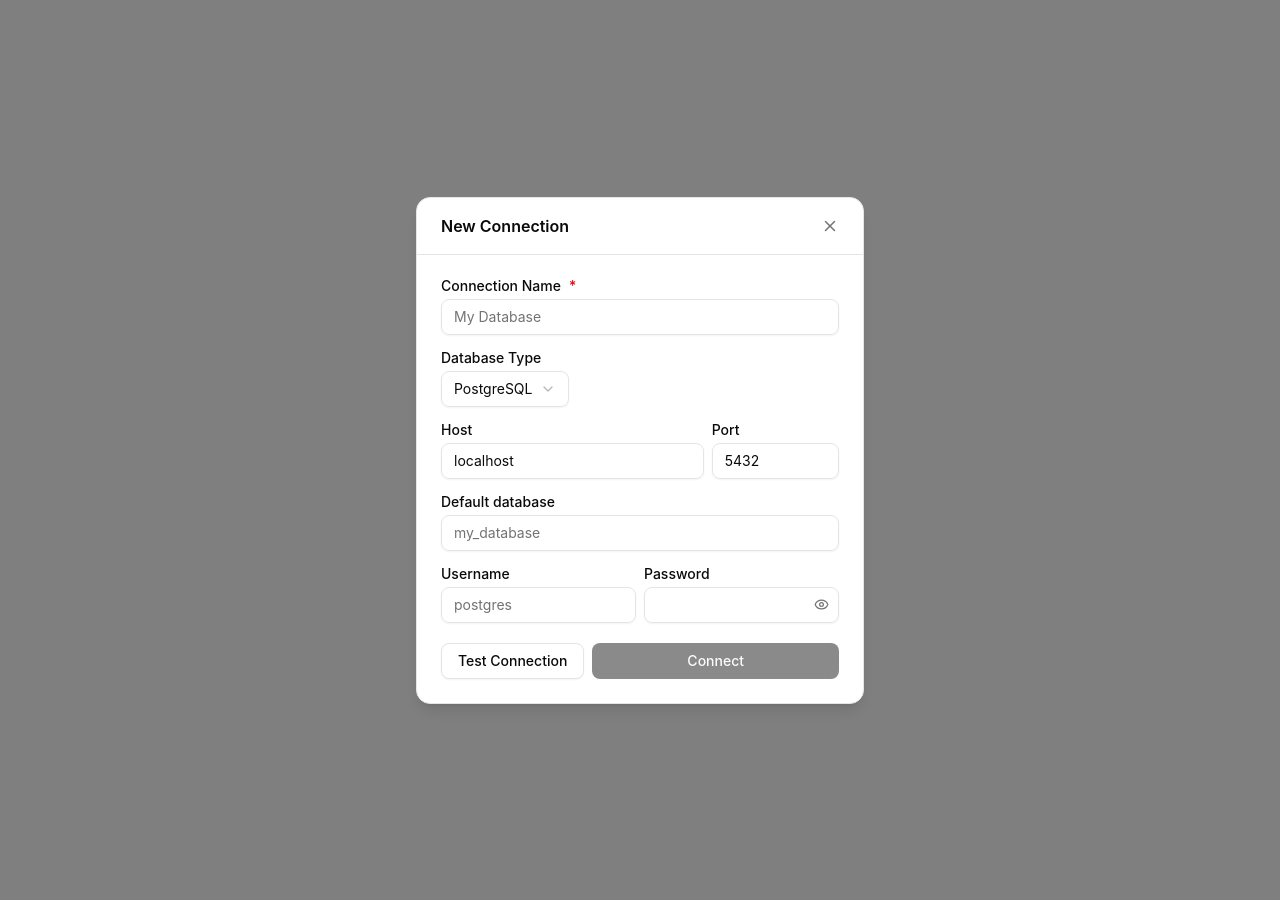
Scenario: DB type select › selecting MySQL sets port to 3306
The image size is (1280, 900).
# Open the Radix Select by clicking the trigger
Click the dropdown: (505,388) [441,370,570,406]
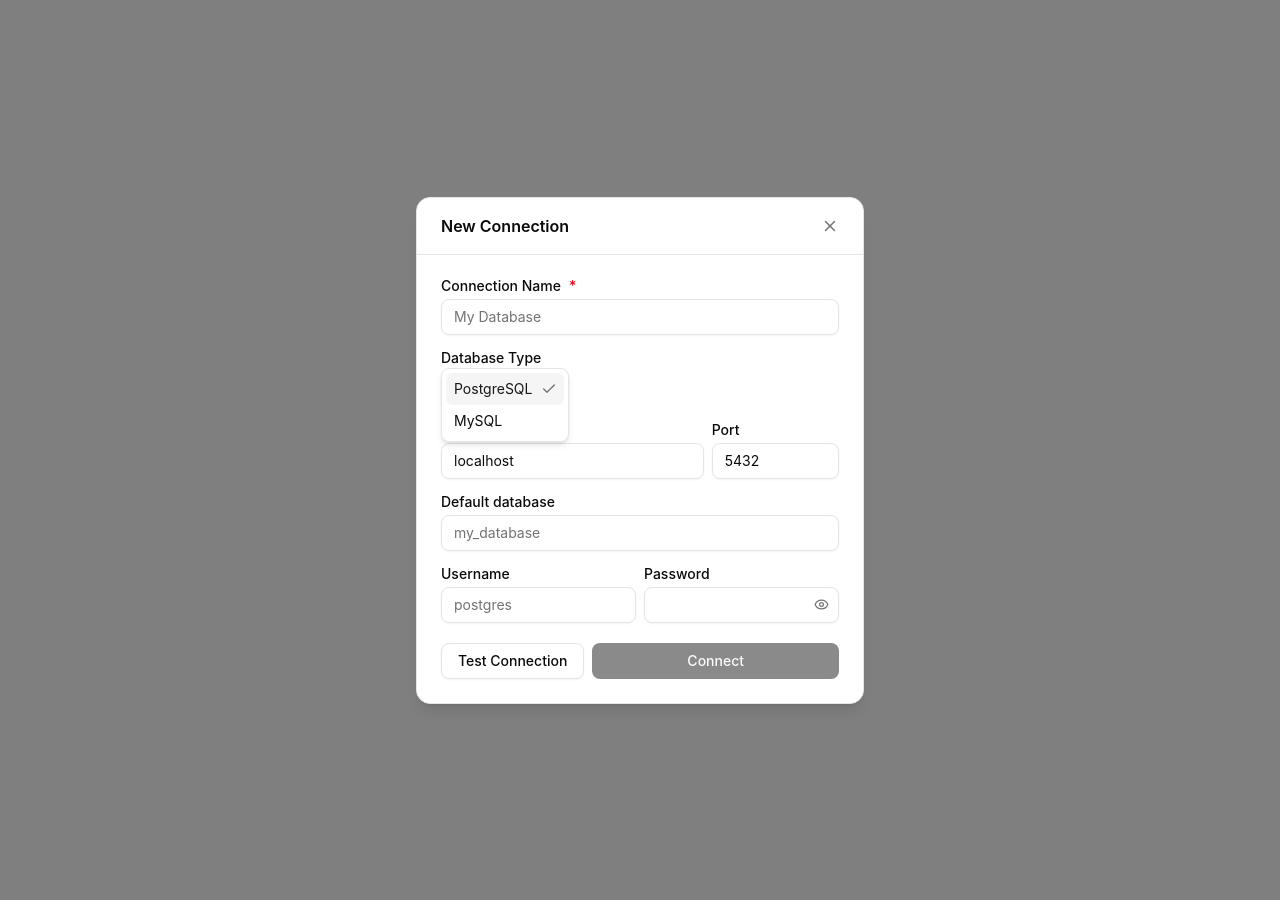
Click the option "MySQL": (478,420) [454,412,502,428]
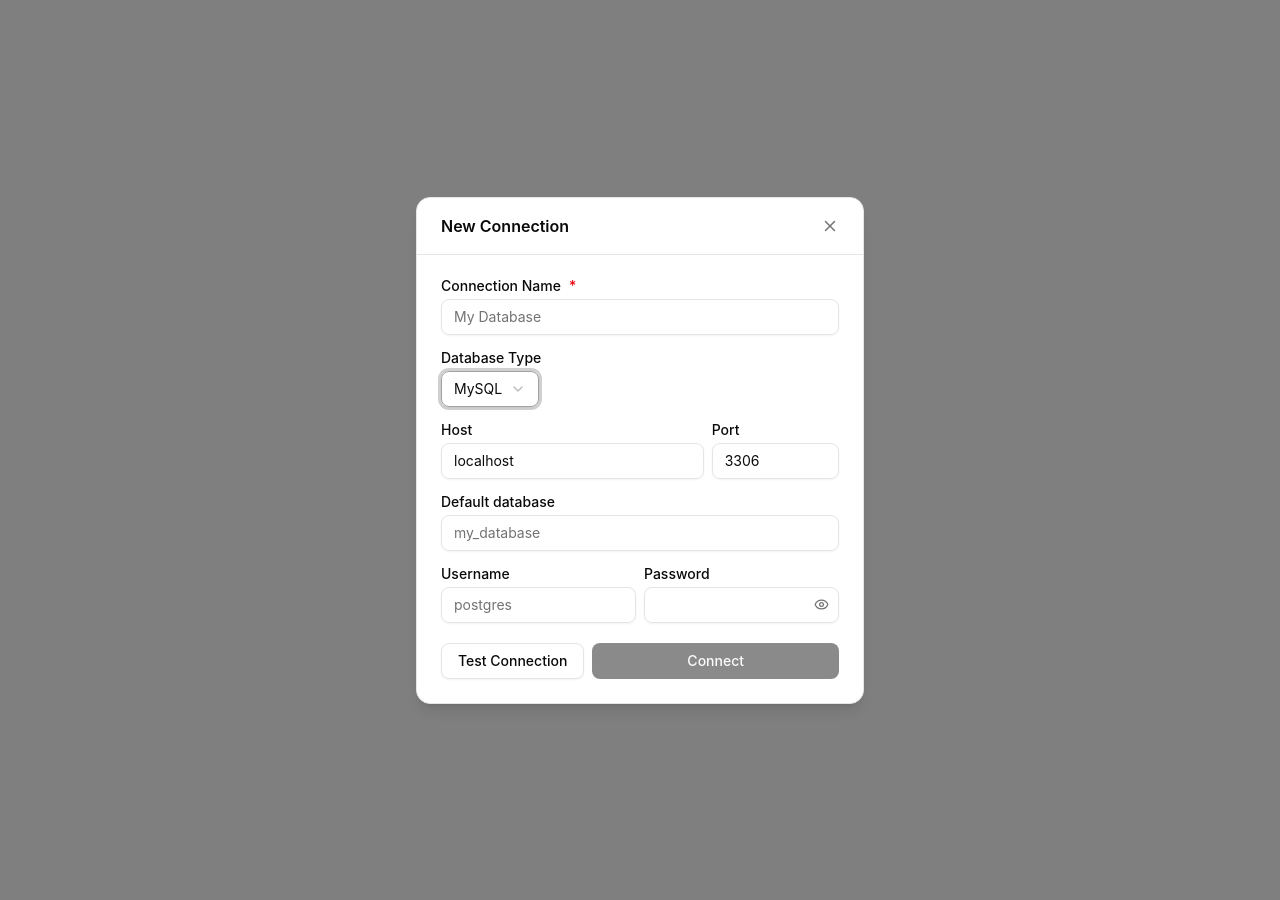
expect the number field holds "3306": met, box [712,442,839,478]
